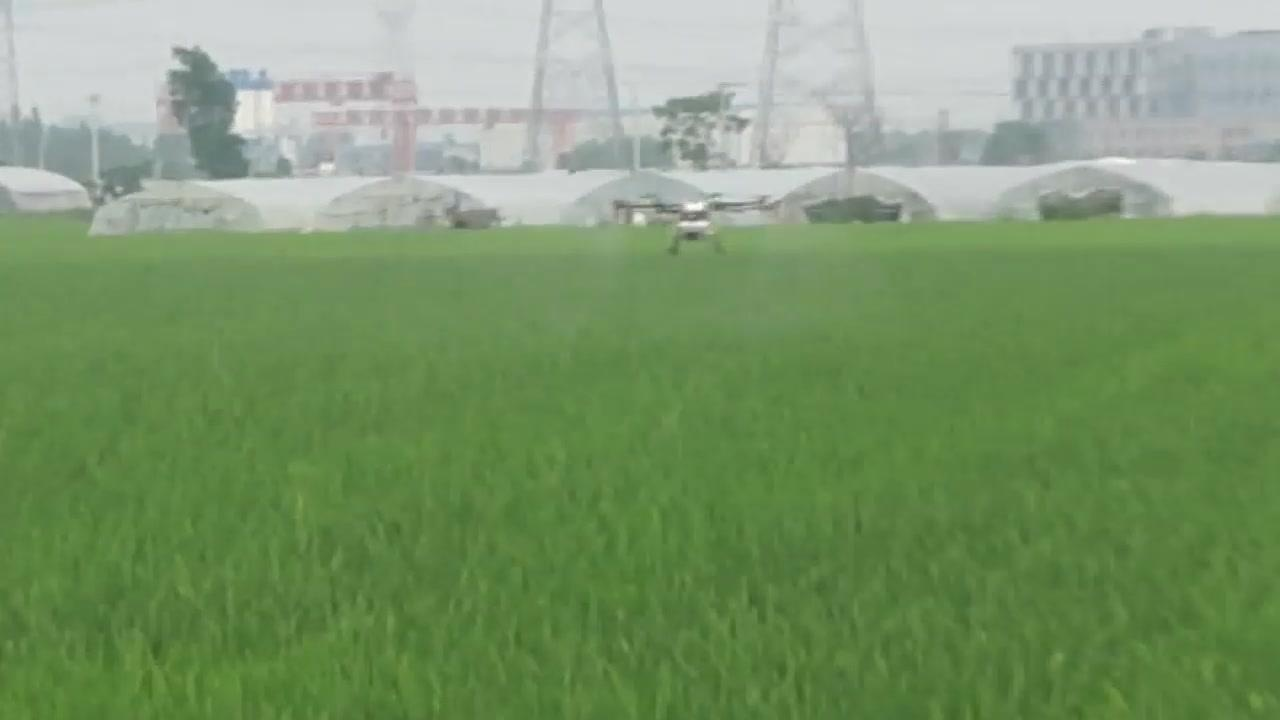UAV: (613, 193, 784, 259)
